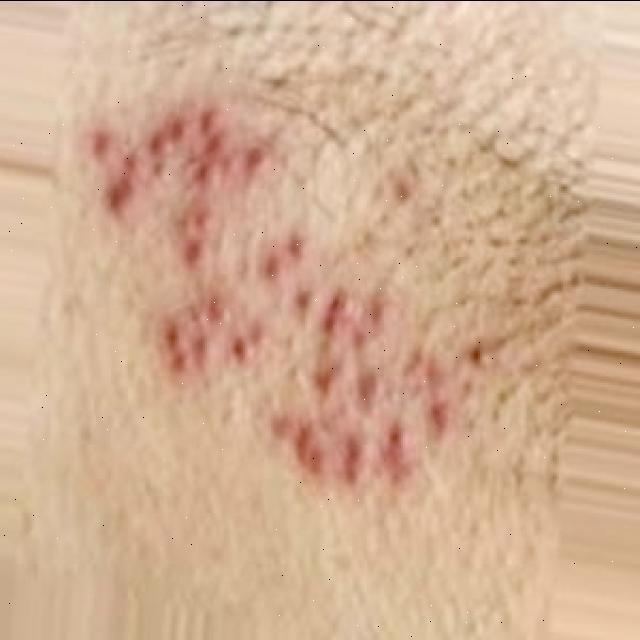Shingles: (91, 103, 454, 491)
